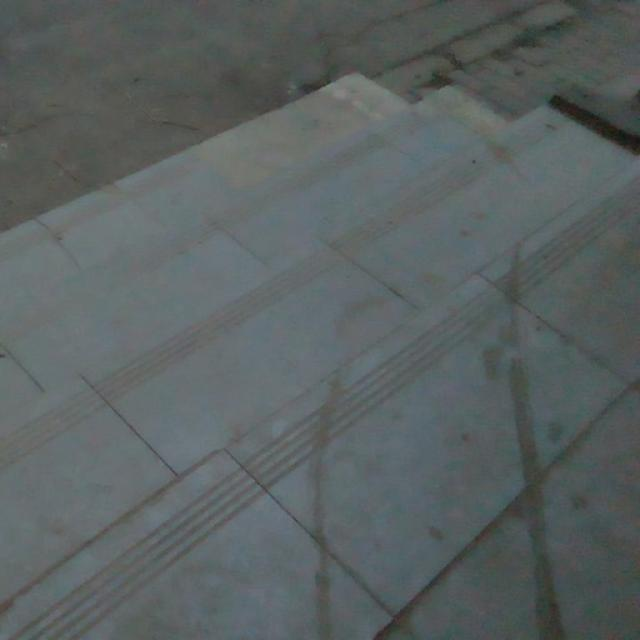stair: (33, 83, 640, 584)
